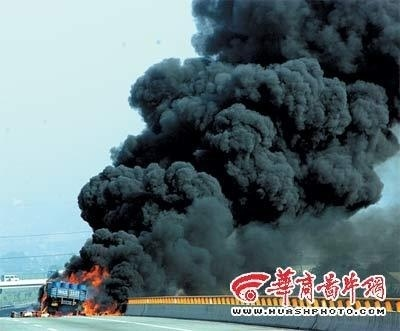fire: (31, 261, 123, 320)
